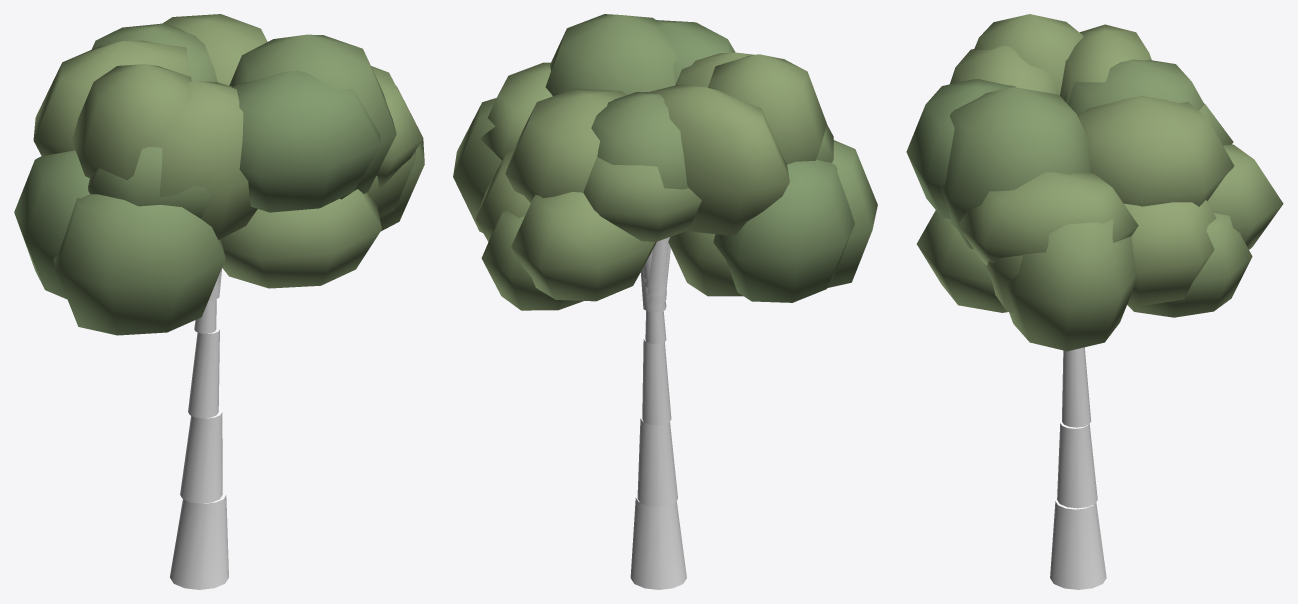
File: oak_v2_near.gltf
The picture shows the model from 3 angles, left to right: view 1: azimuth 30°, elevation 25°; view 2: azimuth 150°, elevation 25°; view 3: azimuth 270°, elevation 25°; orthographic projection. The views are drawn at different scales.
Visible parts, largest first — view 1: foliage, bark; view 2: foliage, bark; view 3: foliage, bark.
Part boxes in pixels (box(x1,y1,x2,y2)): foliage: box(14, 14, 424, 335); bark: box(170, 268, 228, 589); foliage: box(453, 14, 877, 310); bark: box(630, 237, 686, 589); foliage: box(906, 14, 1283, 351); bark: box(1050, 347, 1106, 589).
Size of the model in its own units: 4.09 by 5.33 by 3.46.
